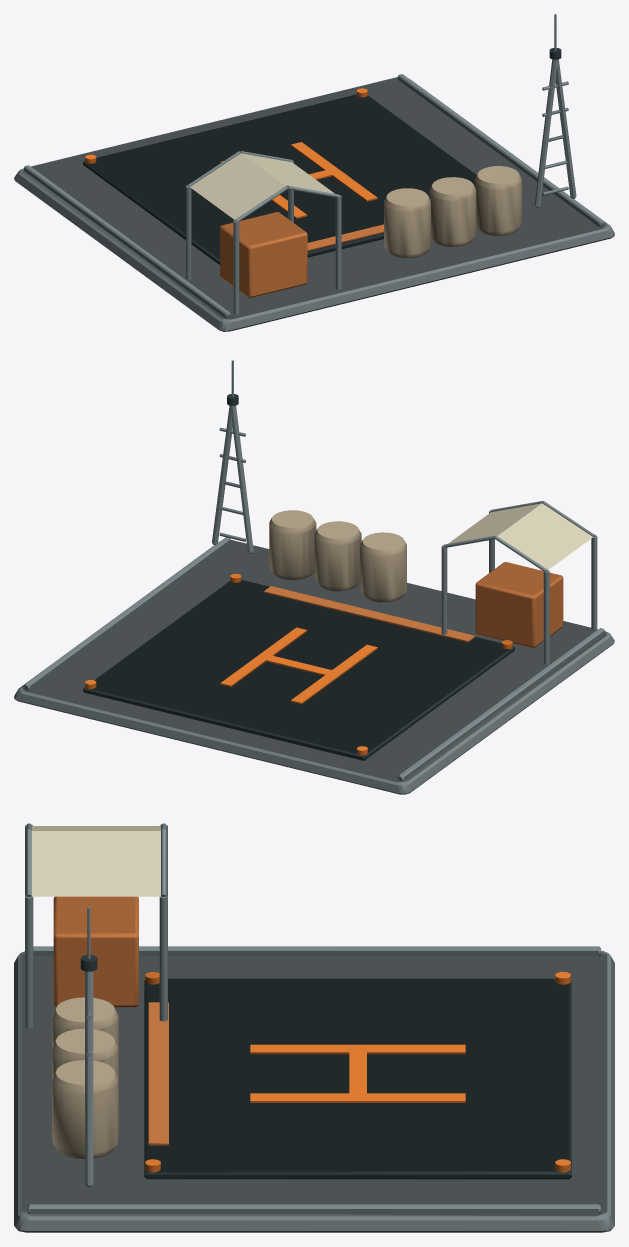
The model's file is RotorPad.glb.
The picture shows the model from 3 angles, top to bottom: view 1: azimuth 30°, elevation 25°; view 2: azimuth 150°, elevation 25°; view 3: azimuth 270°, elevation 25°; orthographic projection. The views are drawn at different scales.
Visible parts, largest first — view 1: export_RotorPad_GravelPad; view 2: export_RotorPad_GravelPad; view 3: export_RotorPad_GravelPad.
Part boxes in pixels (x1,y1,x2,y2): export_RotorPad_GravelPad: (14,14,614,331); export_RotorPad_GravelPad: (14,360,614,794); export_RotorPad_GravelPad: (14,823,614,1232).
Bounding box in the file's own units: 6.98 × 3.57 × 6.48.
